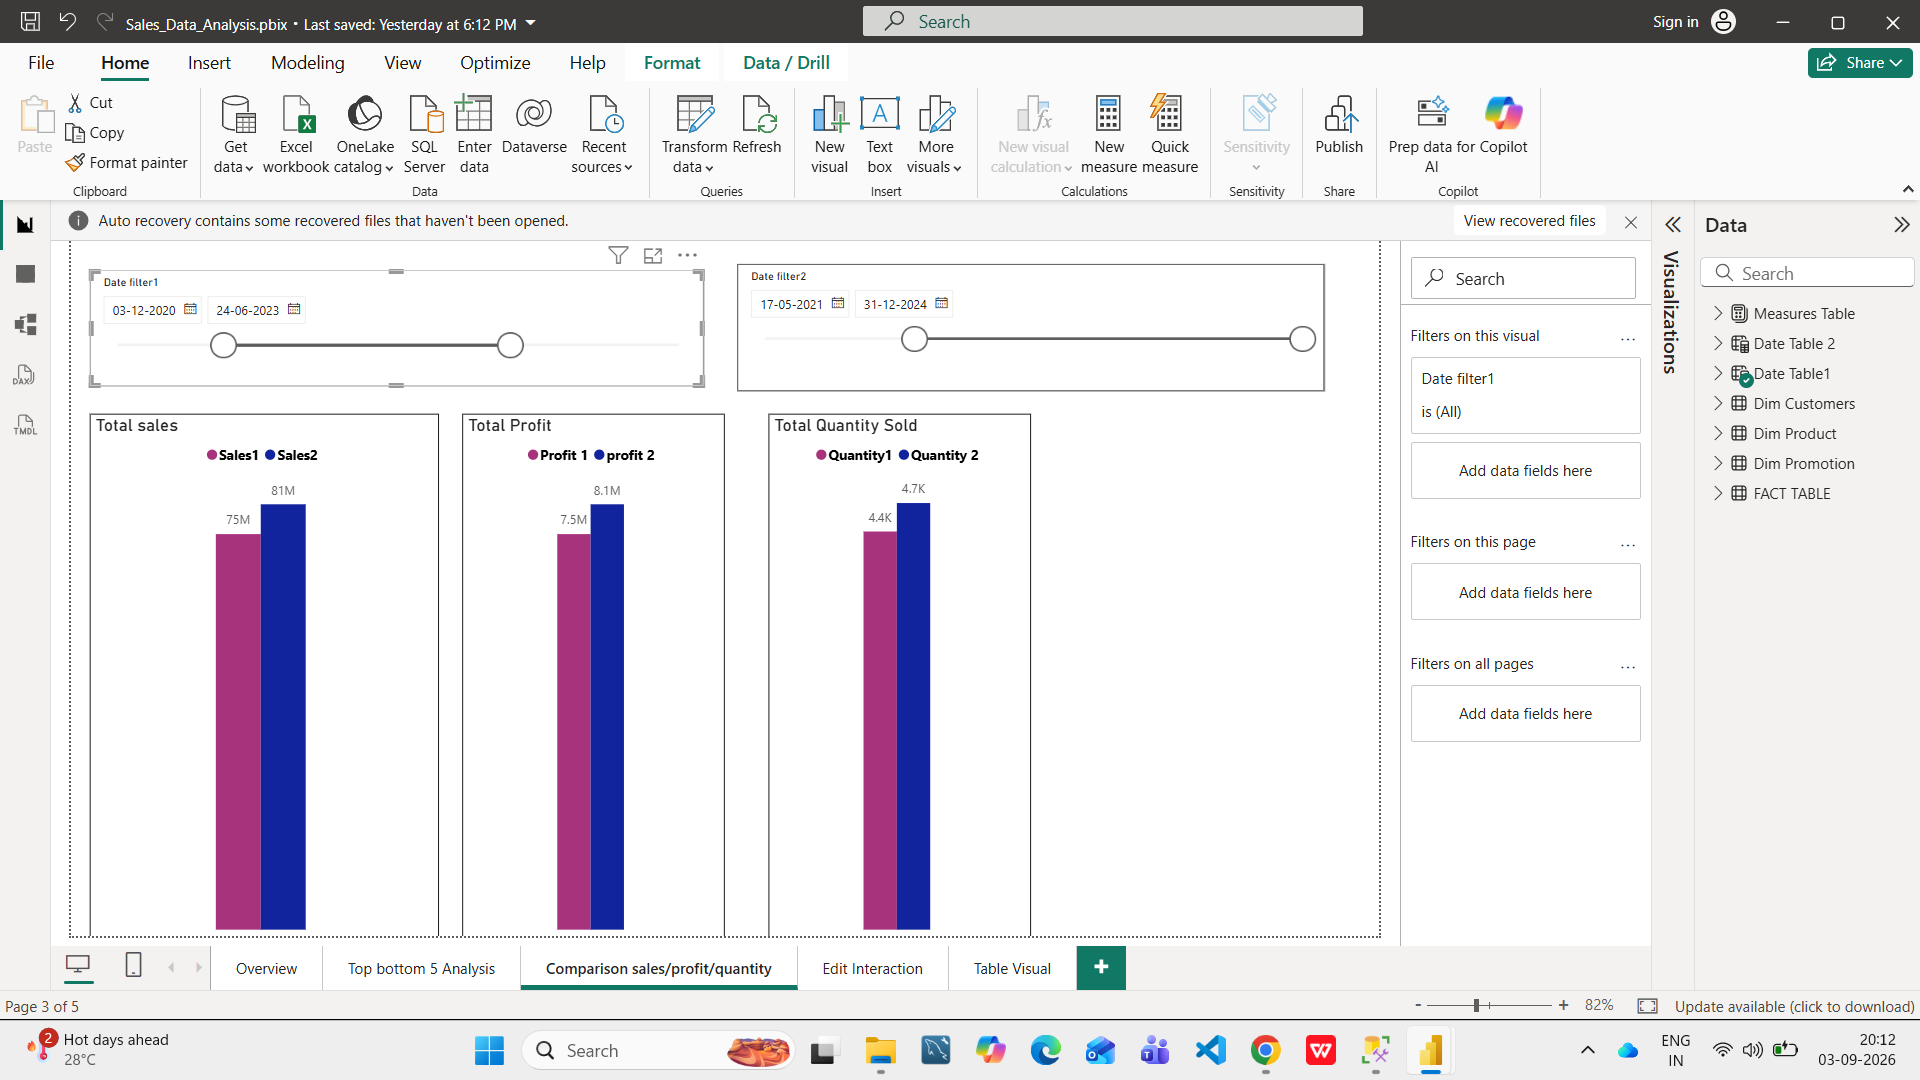

The page's visual inventory and layout, read from the dashboard file:
{"tool":"powerbi","page":{"name":"Comparison sales/profit/quantity","canvas":[1280,720],"ordinal":2},"visuals":[{"type":"slicer","fields":{"Values":["Date Table1.Date"]},"box":[18.3,68.5,600.4,113.7],"z":0},{"type":"slicer","fields":{"Values":["Date Table 2.Date"]},"box":[651.8,62.4,574.7,124.7],"z":1000},{"type":"clusteredColumnChart","title":"Total sales","fields":{"Y":["Sum(FACT TABLE.Net sales)","Date Table1.Sum of Net sales"]},"box":[17.8,208.6,341.7,511.8],"z":2000},{"type":"clusteredColumnChart","title":"Total Profit","fields":{"Y":["Sum(FACT TABLE.Profit column)","Measures Table.Total profit"]},"box":[382.8,208.6,256.6,511.8],"z":3000},{"type":"clusteredColumnChart","title":"Total Quantity Sold","fields":{"Y":["Sum(FACT TABLE.Units Sold)","Measures Table.Quantity sold"]},"box":[682,208.6,256.6,511.8],"z":4000}]}

Visuals, with their boxes on the page's 1280x720 design canvas (x1, y1, x2, y2). These are canvas units, not pixel positions in the 1920x1080 screenshot, which may show the page scaled, cropped or inside an application window:
slicer - Date Table1.Date: locate(18, 68, 619, 182)
slicer - Date Table 2.Date: locate(652, 62, 1226, 187)
"Total sales" clusteredColumnChart: locate(18, 209, 360, 720)
"Total Profit" clusteredColumnChart: locate(383, 209, 639, 720)
"Total Quantity Sold" clusteredColumnChart: locate(682, 209, 939, 720)
